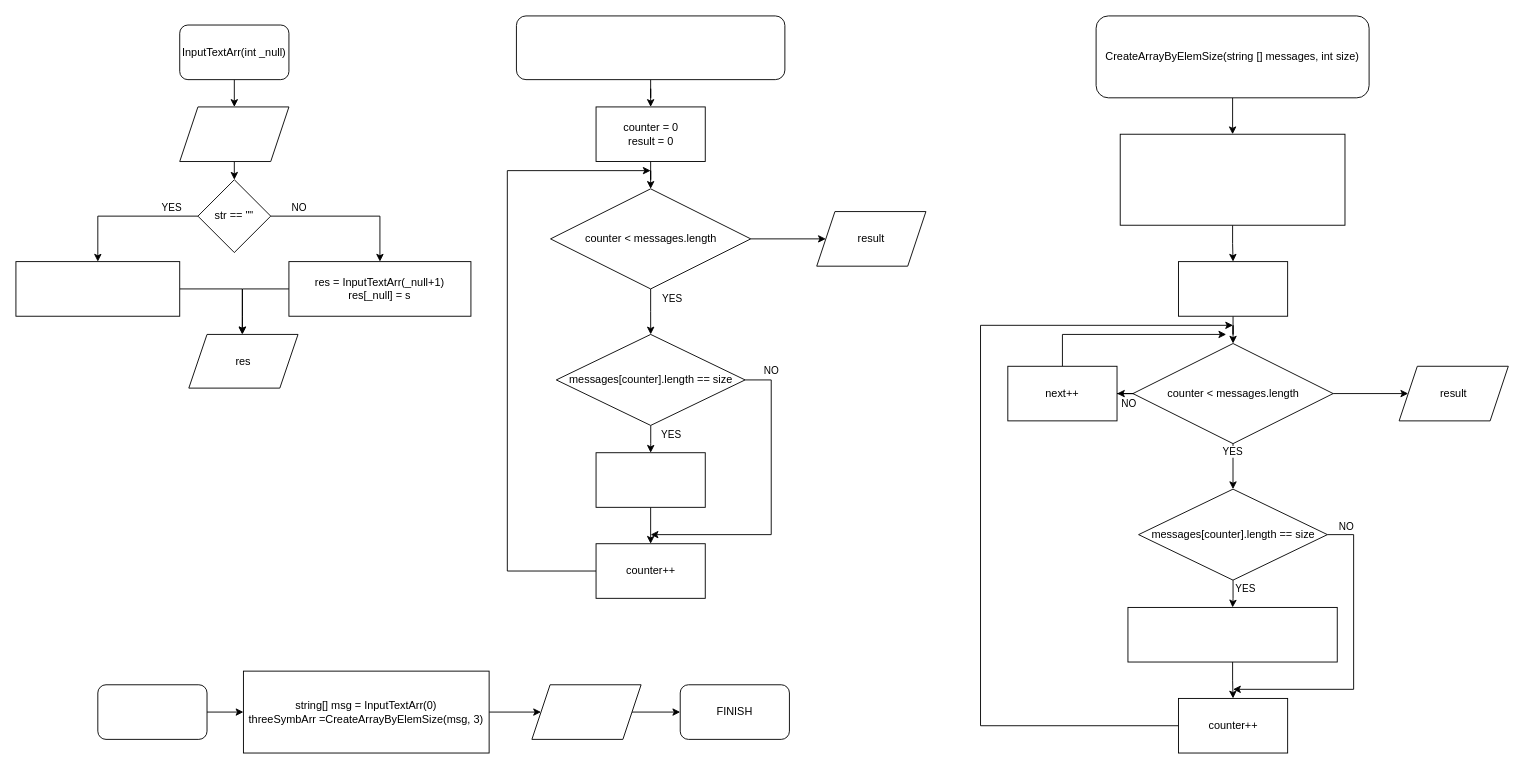
The diagram is 1524 pixels wide and 769 high, and some of its shapes have lost their labels. Each missing label, with the centre of its shape:
"counter = 0 next++" goes at (1233,288).
"GetColElementsBySize(string [] messages, int size)" goes at (650,47).
"n = GetColElementsBySize(messages, size) string [] result = new string[n]" goes at (1232,179).
"result++" goes at (650,479).
"result[next] = messages[counter] next++" goes at (1232,634).
"START" goes at (152,711).
"str" goes at (234,134).
"string [] res = new string[_null]" goes at (97,288).
"threeSymbArr" goes at (586,711).
